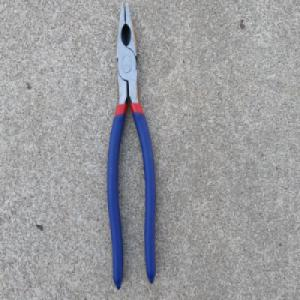Pliers: (104, 1, 157, 294)
